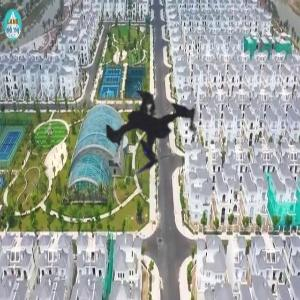drone: (25, 4, 284, 263)
